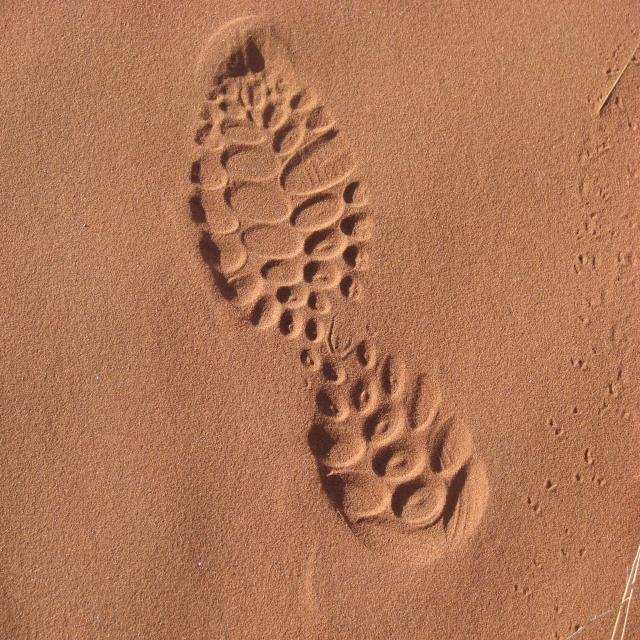human_foot_print: (184, 13, 492, 559)
